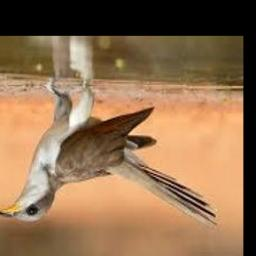Cuckoo: (0, 83, 217, 230)
